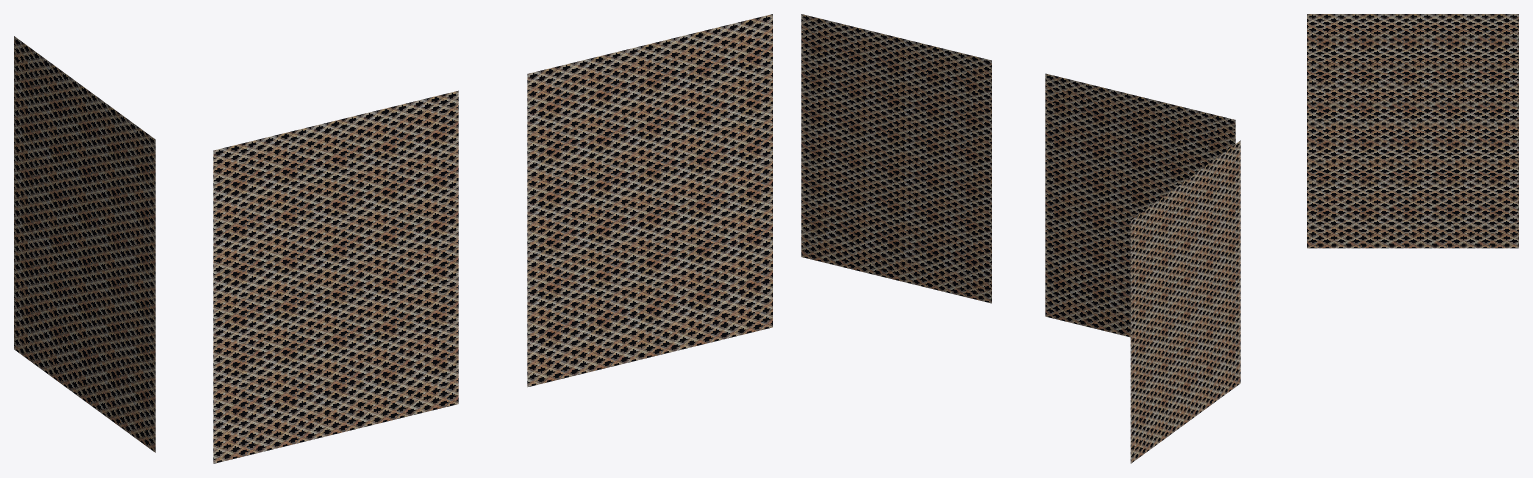
Rendered from Bullet Station 54.fbx.
3 renders of one model, left to right at view 1: azimuth 30°, elevation 25°; view 2: azimuth 150°, elevation 25°; view 3: azimuth 270°, elevation 25°, orthographic. The views are drawn at different scales.
Parts seen in each view (by area): view 1: STG08_PNW_01; view 2: STG08_PNW_01; view 3: STG08_PNW_01.
Boxes of the visible parts, left/top/right/bottom form: STG08_PNW_01: left=14, top=14, right=772, bottom=463; STG08_PNW_01: left=801, top=14, right=1240, bottom=463; STG08_PNW_01: left=1307, top=14, right=1518, bottom=248.
Size of the model in its own units: 24100 by 12200 by 11800.
